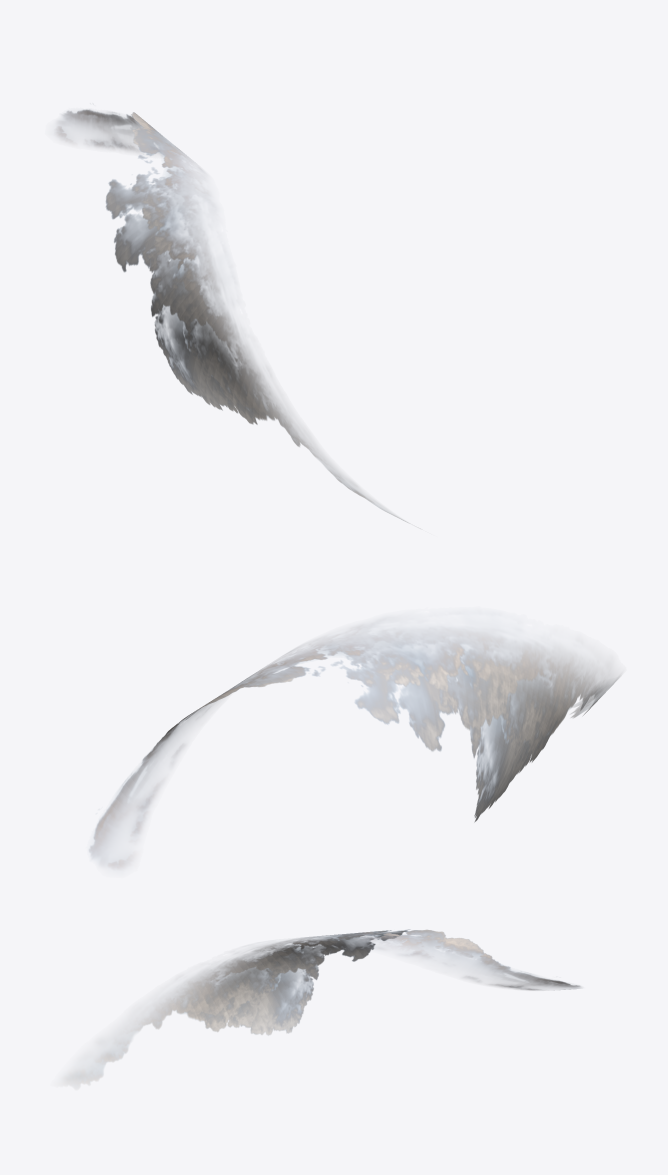
Rendered from TCom_Skies0366_3_masked_S.003.gltf.
3 views of the same model, one above another, from view 1: azimuth 30°, elevation 25°; view 2: azimuth 150°, elevation 25°; view 3: azimuth 270°, elevation 25° (orthographic). The views are drawn at different scales.
Visible parts, largest first — view 1: TCom_Skies0366_3_masked_S.003; view 2: TCom_Skies0366_3_masked_S.003; view 3: TCom_Skies0366_3_masked_S.003.
Boxes of the visible parts, left/top/right/bottom form: TCom_Skies0366_3_masked_S.003: left=54, top=109, right=420, bottom=528; TCom_Skies0366_3_masked_S.003: left=89, top=617, right=620, bottom=870; TCom_Skies0366_3_masked_S.003: left=58, top=929, right=581, bottom=1089.
Size of the model in its own units: 104 by 76.28 by 236.
1 material, 1 textured.
